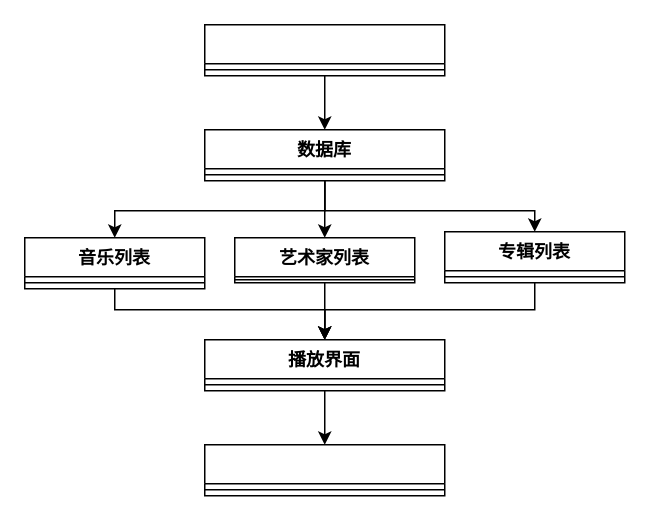
Image size: 650x521. Some labels were removed from this diagram. The box of each missing label's shape, as (x1, y1, x2, y2) in pixels:
手机SD卡扫描: (203, 23, 445, 76)
音乐控制: (203, 443, 445, 496)
